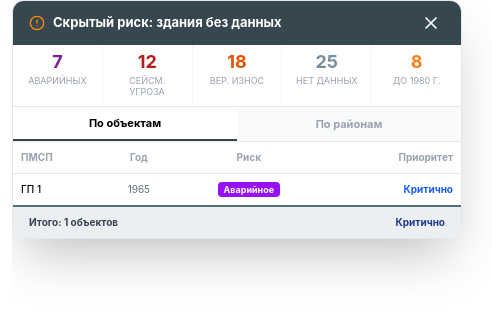
it: BuildingRiskPanel Component › должен переключаться на вкладку "По районам" и считать итоги в футере
Click the button "По районам".
click(349, 124)  # box [237,106,461,141]
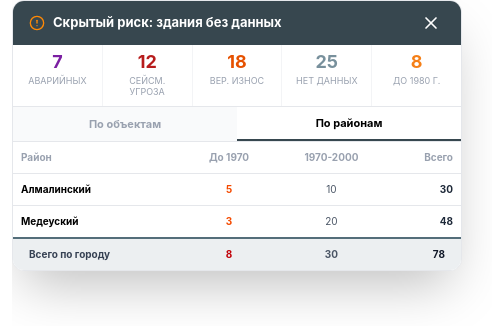
Result: the column heading "До 1970" is shown at [183,142,275,174]
Result: the text "Алмалинский" is shown at [13,174,183,206]
Result: the text "8" is shown at [183,238,275,270]
